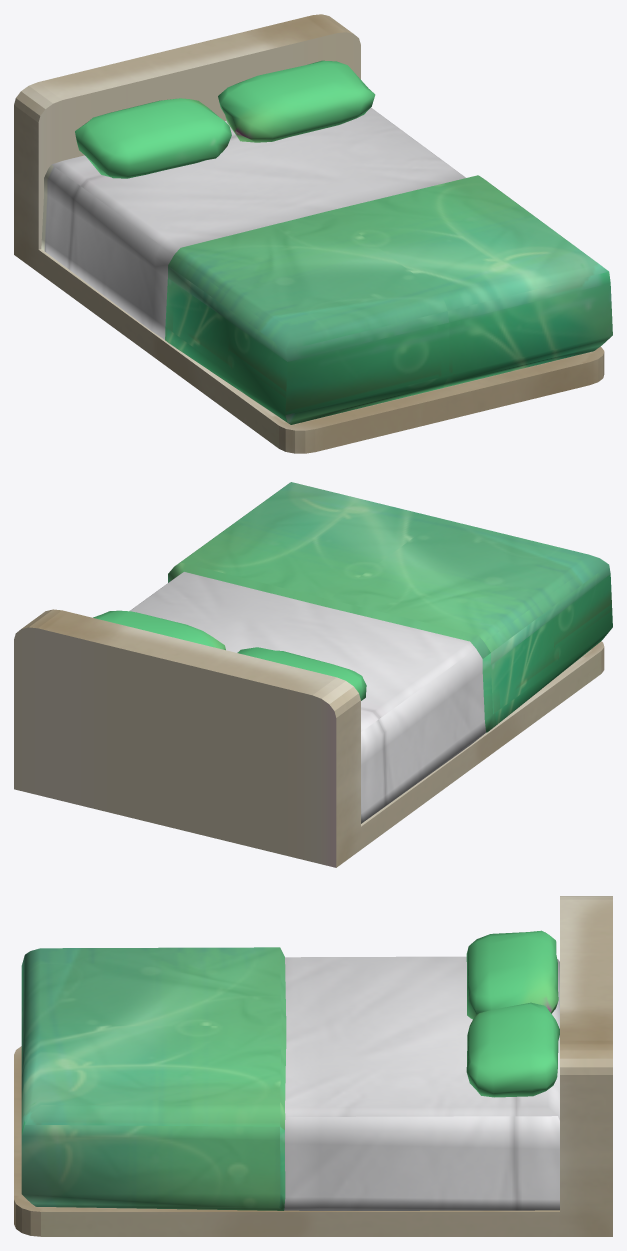
Rendered from bed1.glb.
3 views of the same model, one above another, from view 1: azimuth 30°, elevation 25°; view 2: azimuth 150°, elevation 25°; view 3: azimuth 270°, elevation 25° (orthographic). The views are drawn at different scales.
Visible parts, largest first — view 1: cubbb; view 2: cubbb; view 3: cubbb.
Part boxes in pixels (left/top/right/bottom): cubbb: left=14, top=14, right=612, bottom=453; cubbb: left=14, top=482, right=612, bottom=867; cubbb: left=14, top=896, right=612, bottom=1236.
Size of what is drawn, in the model's own units: 1.99 by 0.9607 by 2.9.
1 material, 1 textured.
